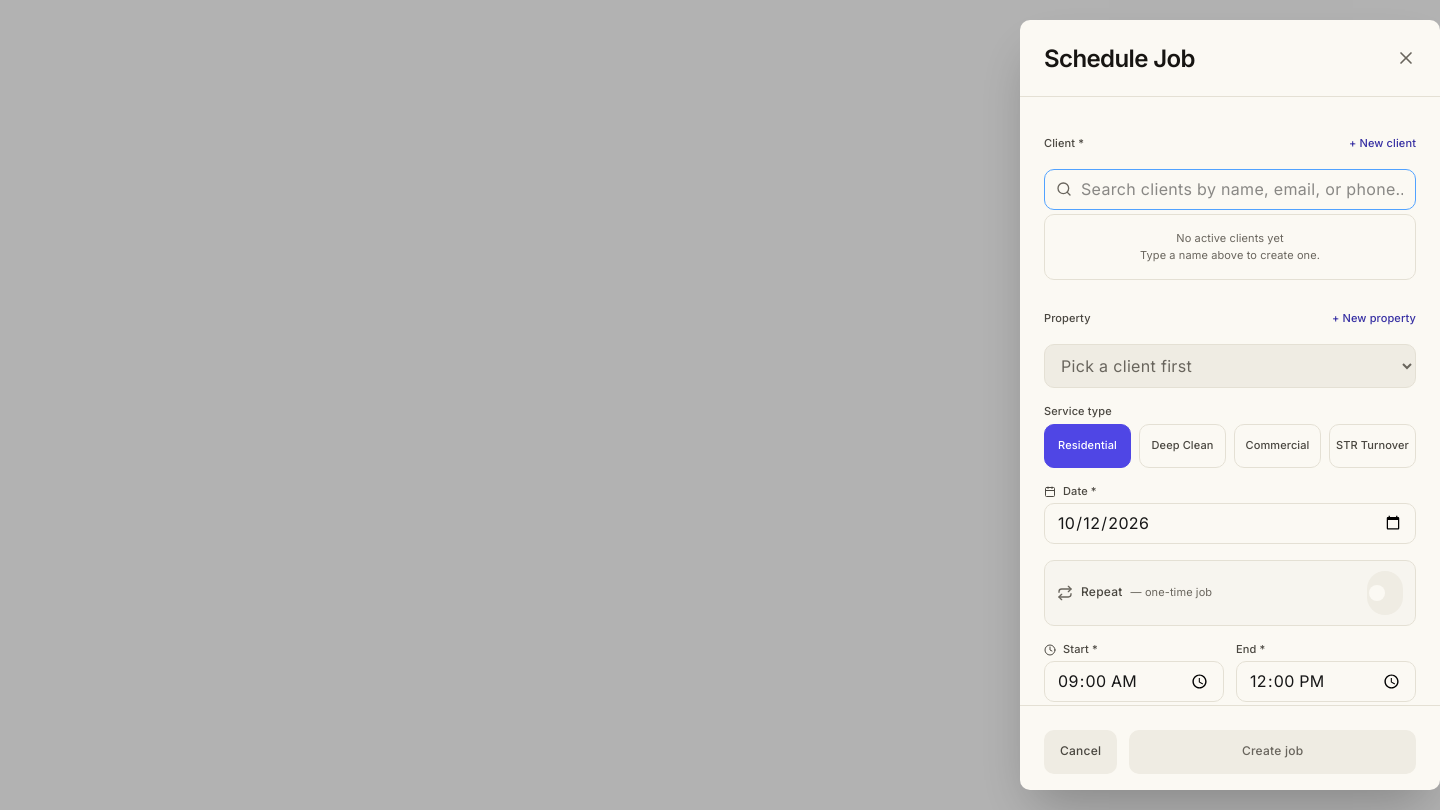
Test: JobCreateModal — inline create client (Twenty-style) › offers "Create X" on no-match and opens the form pre-filled with the typed name
Type "Jane Doe" into the field with test id "job-create-client-search" at {"x": 1230, "y": 190}, box [1044,169,1416,210]
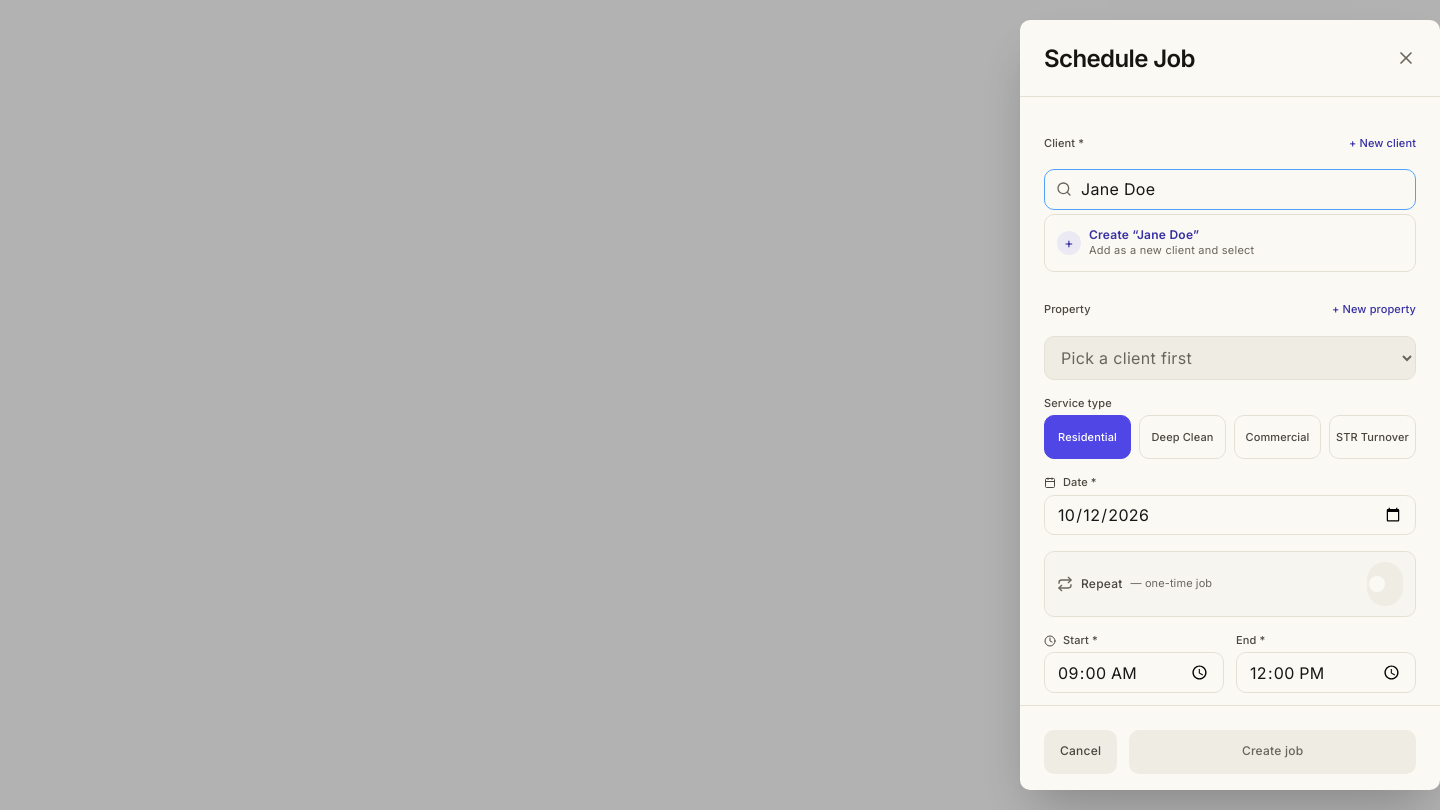
Expected: the button with test id "job-create-client-create-inline" shows "Jane Doe"
Click the button with test id "job-create-client-create-inline" at {"x": 1230, "y": 243}, box [1045,215,1415,271]
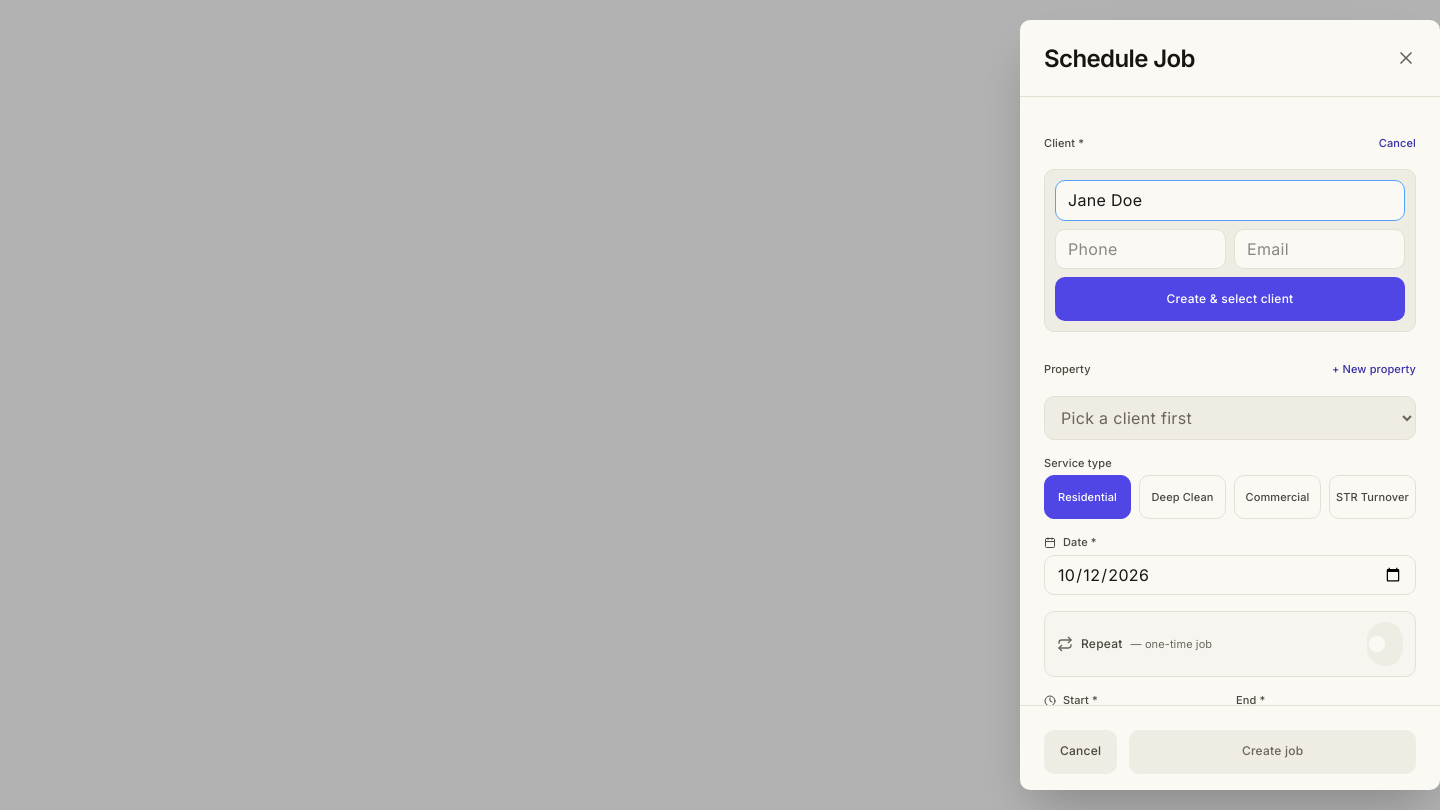
Expected: the field with placeholder "Client name *" holds "Jane Doe", [1055,180,1405,221]
